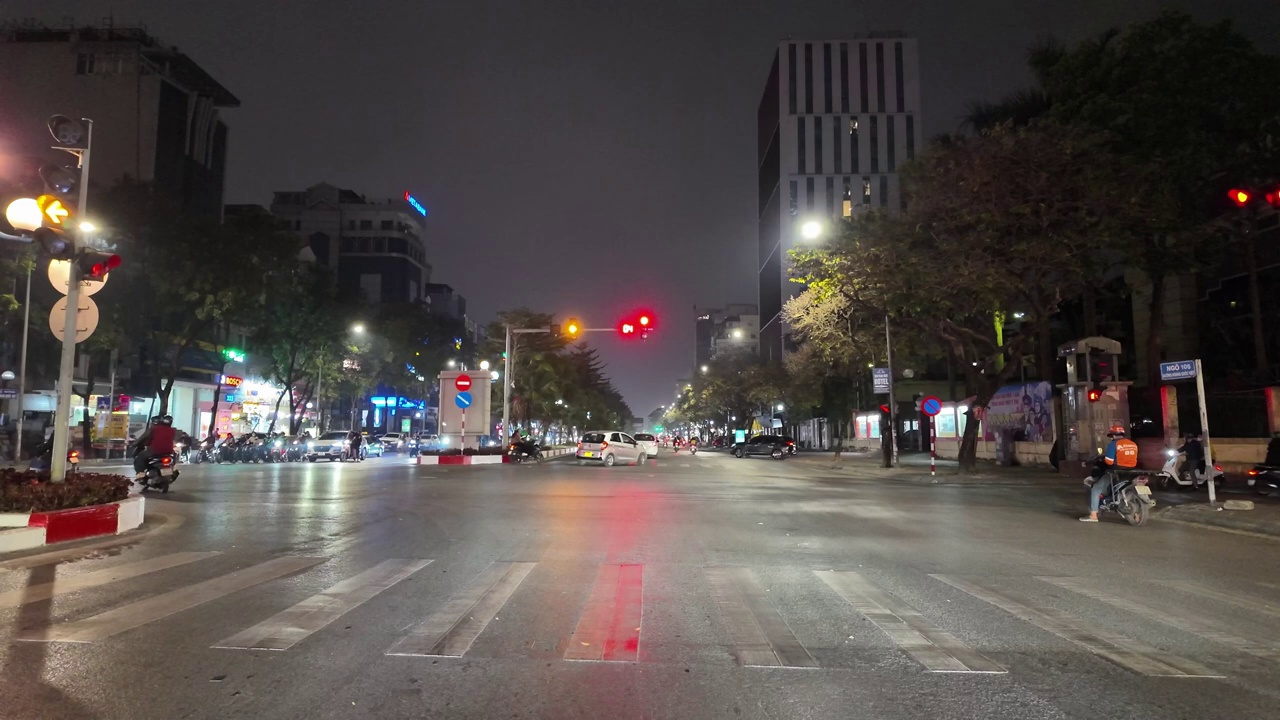acesa: (792, 214, 830, 250), (559, 316, 586, 342), (724, 324, 750, 347), (347, 320, 370, 345)
